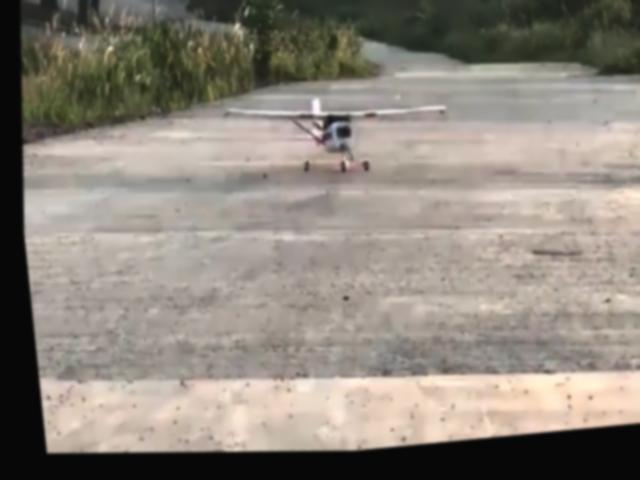plane: (218, 86, 448, 192)
